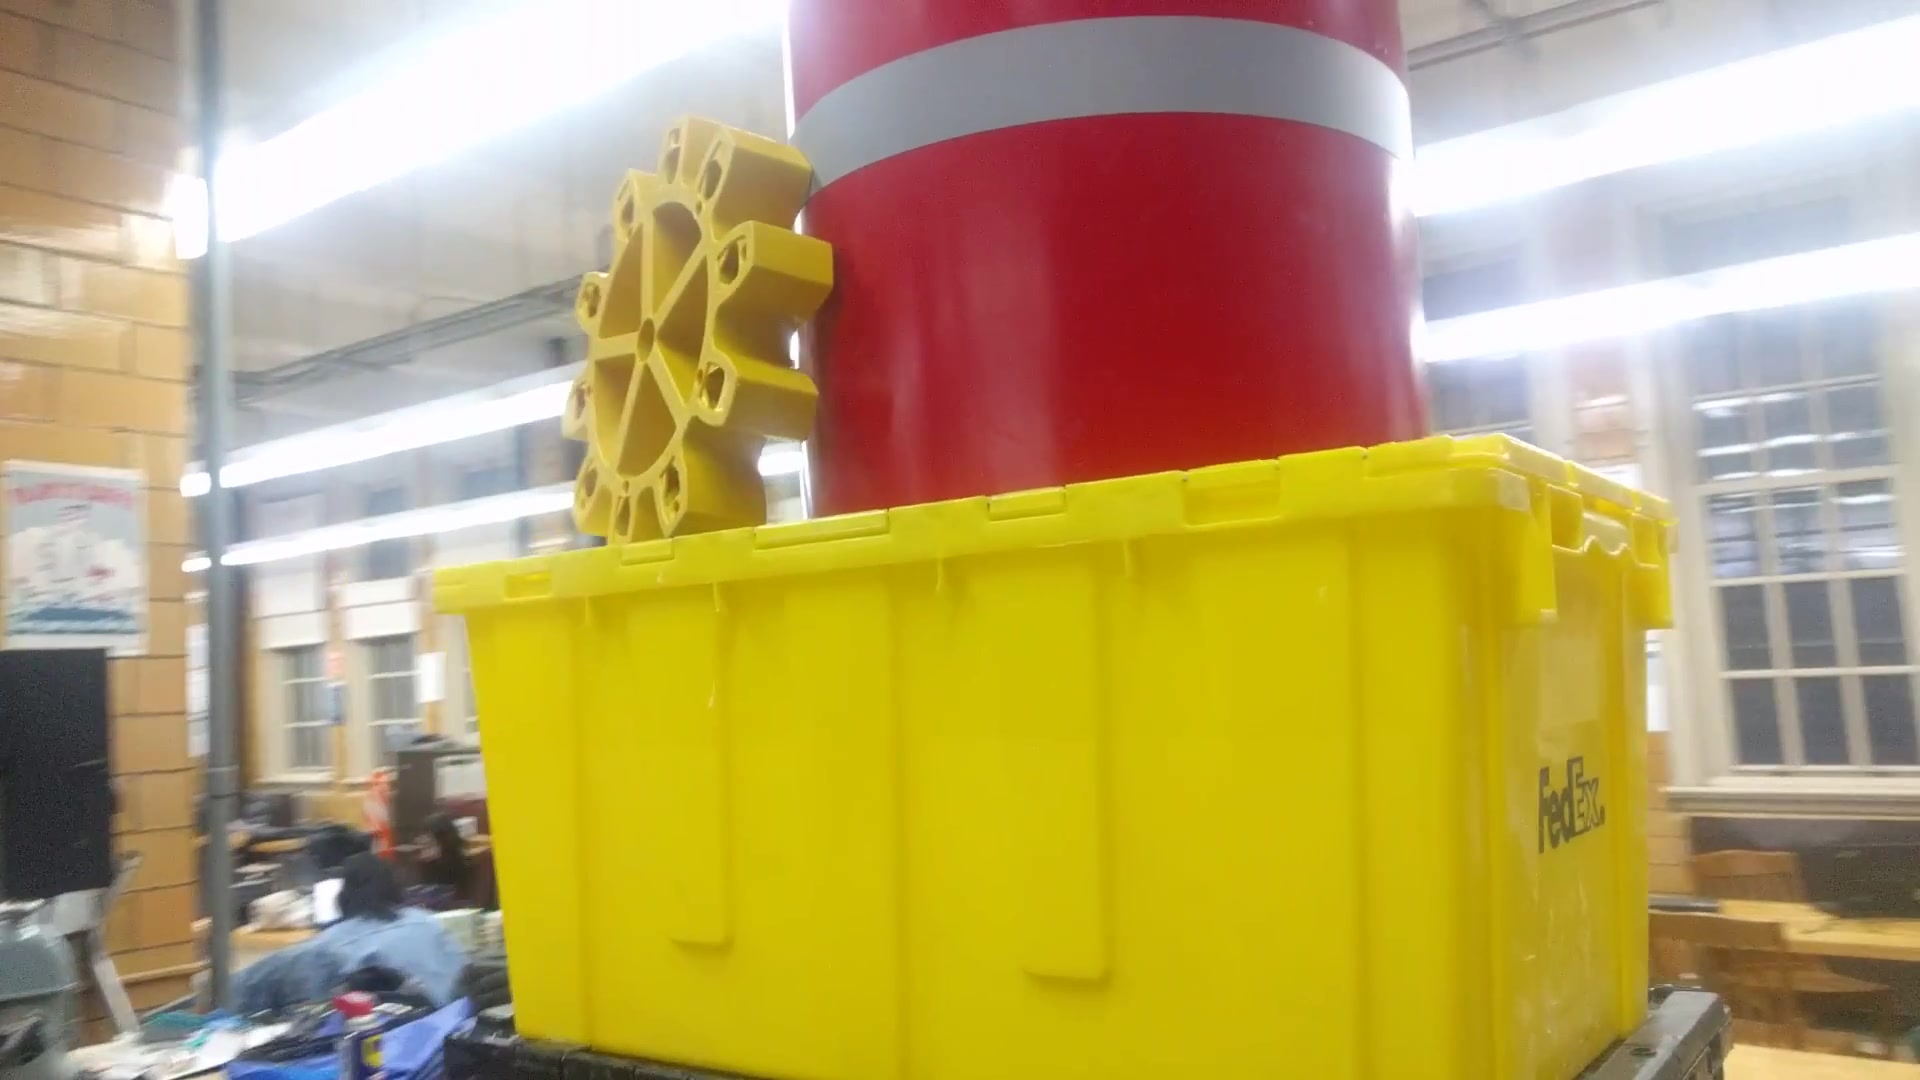gear: (553, 102, 840, 547)
